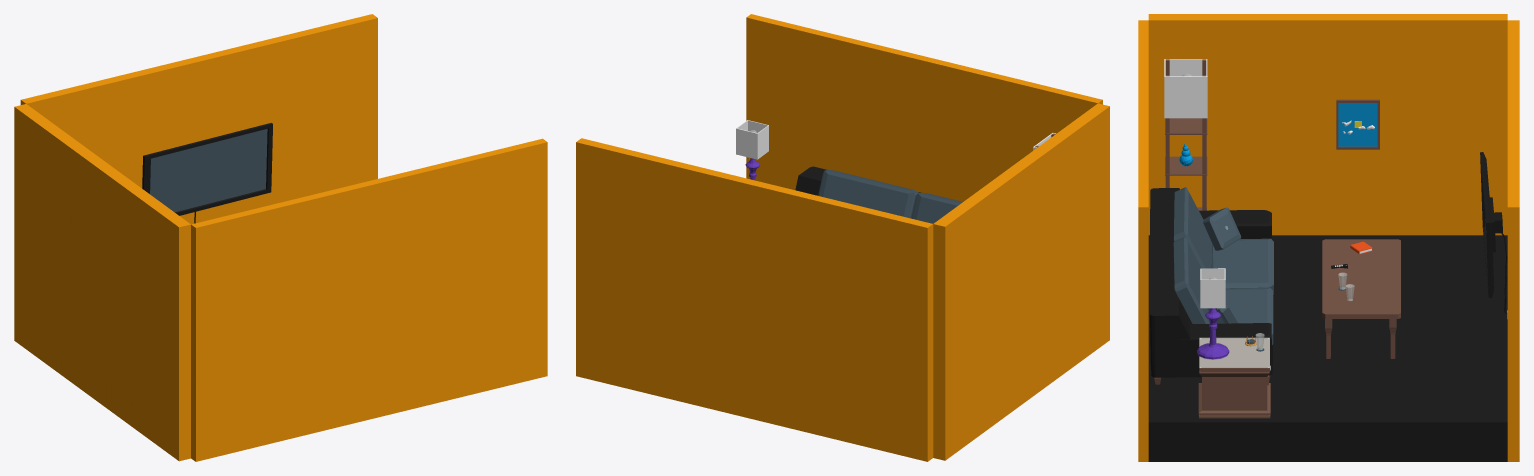
The model's file is Family Room.glb.
The picture shows the model from 3 angles, left to right: view 1: azimuth 30°, elevation 25°; view 2: azimuth 150°, elevation 25°; view 3: azimuth 270°, elevation 25°; orthographic projection. The views are drawn at different scales.
Visible parts, largest first — view 1: Node; view 2: Node; view 3: Node.
Part boxes in pixels (x1,y1,x2,y2): Node: [14, 14, 547, 461]; Node: [576, 14, 1109, 461]; Node: [1138, 14, 1519, 461].
Bounding box in the file's own units: 3.05 × 1.87 × 2.54.
